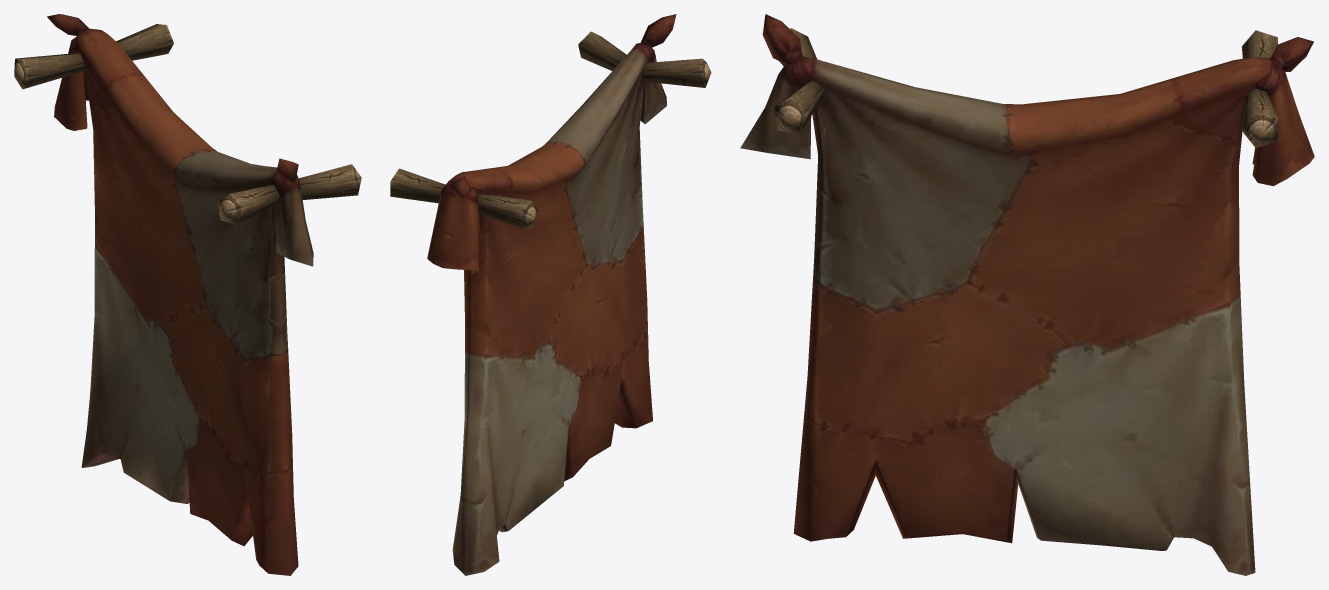
The picture shows the model from 3 angles, left to right: view 1: azimuth 30°, elevation 25°; view 2: azimuth 150°, elevation 25°; view 3: azimuth 270°, elevation 25°; orthographic projection. The views are drawn at different scales.
Size of the model in its own units: 1.8 by 5.06 by 4.82.
Materials: 1 (1 with a texture image).
